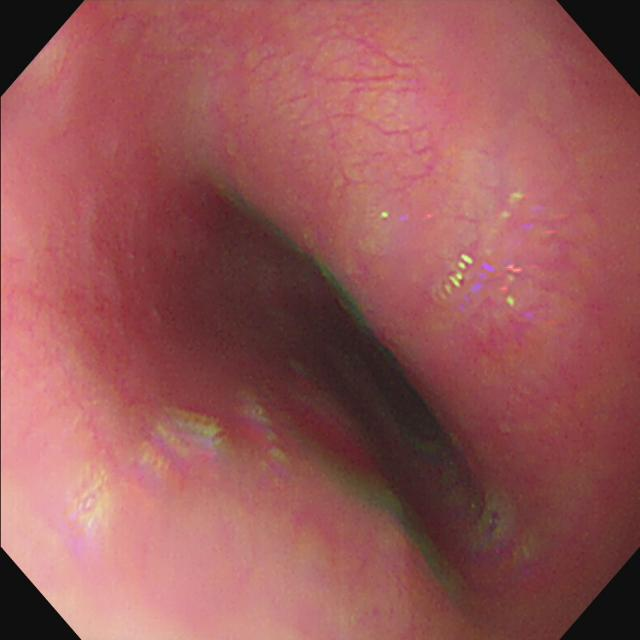E: (380, 356, 445, 435)
U: (442, 254, 475, 297)
